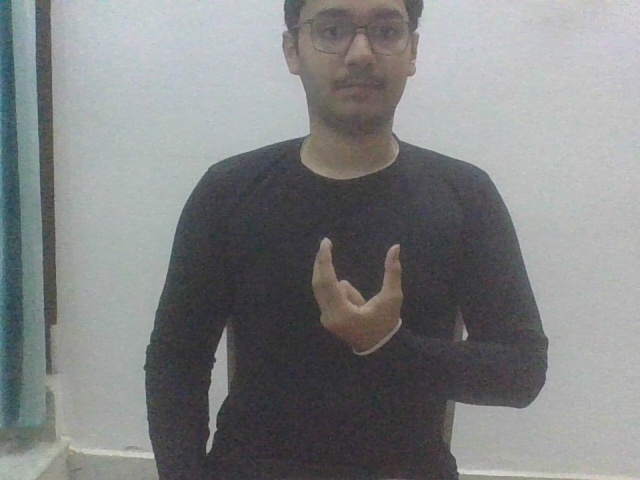U: (308, 233, 408, 360)
